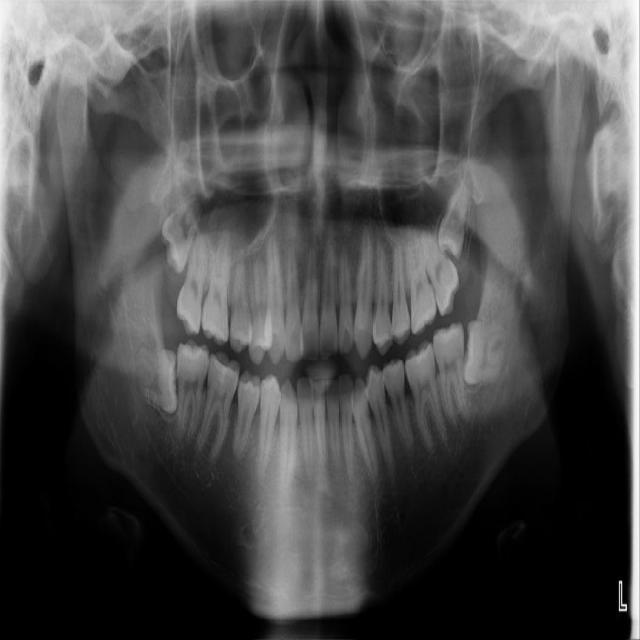3M ESPE Implant: (149, 190, 207, 276)
BioHorizons Implant: (407, 202, 469, 318)
BioLife Implant: (435, 174, 472, 261)
Biomet 3i Implant: (459, 316, 509, 389)
Blue Sky Bio Implant: (431, 321, 470, 427)
Caries: (173, 220, 214, 337)
Implant: (165, 338, 212, 444)
Keystone Dental Implant: (135, 347, 179, 415)
